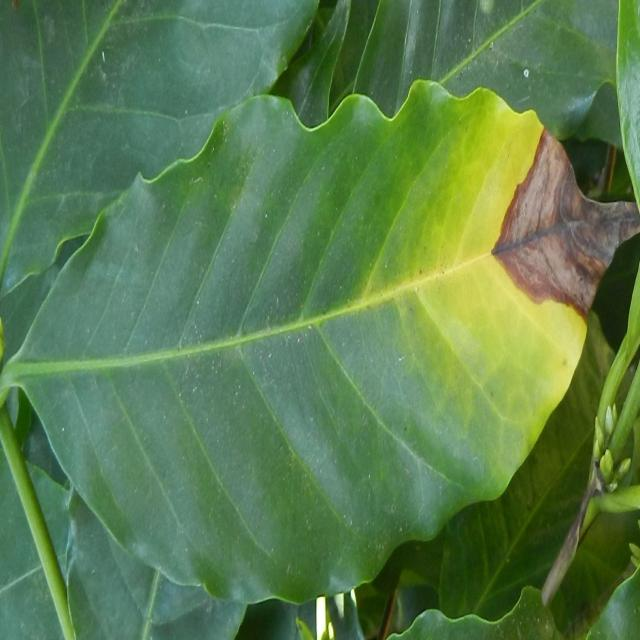Enfermedad-Mancha-de-hierro: (15, 81, 640, 604)
